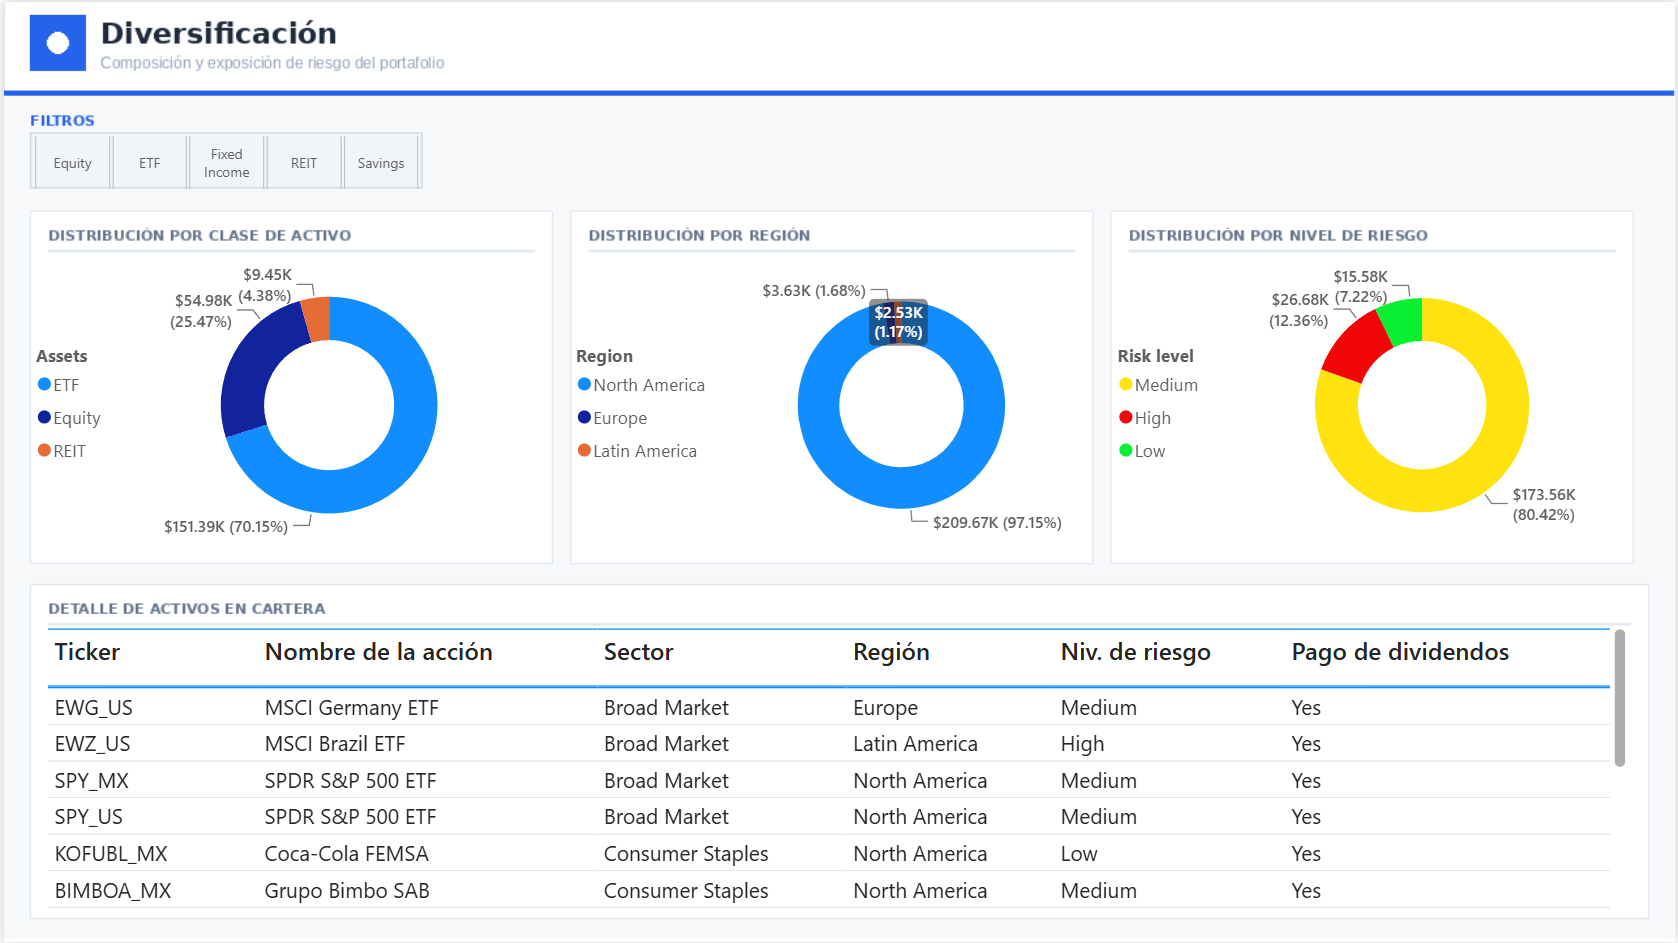

The dashboard page shown, as its layout file describes it:
{"tool":"powerbi","page":{"name":"Diversificación","canvas":[1280,720],"ordinal":3},"visuals":[{"type":"tableEx","title":"Rendimiento por activo","fields":{"Values":["Dim_Assets.Ticker","Dim_Assets.AssetName","Dim_Assets.Sector","Dim_Assets.Region","Dim_Assets.RiskLevel","Dim_Assets.IsDividendPaying"]},"box":[28,474.7,1220,224],"z":0},{"type":"slicer","title":"Clase de activo","fields":{"Values":["Dim_Assets.AssetClass"]},"box":[0,97.5,341.5,50],"z":1000},{"type":"donutChart","title":"Distribución por clase de activo","fields":{"Category":["Dim_Assets.AssetClass"],"Y":["Fact_CurrentPrices.Valor Actual MXN"]},"box":[19.1,191,398.5,235.5],"z":2000},{"type":"donutChart","title":"Distribución por región","fields":{"Category":["Dim_Assets.Region"],"Y":["Fact_CurrentPrices.Valor Actual MXN"]},"box":[432.9,191,399.8,235.5],"z":3000},{"type":"donutChart","title":"Distribución por nivel de riesgo","fields":{"Category":["Dim_Assets.RiskLevel"],"Y":["Fact_CurrentPrices.Valor Actual MXN"]},"box":[848,191,399.8,235.5],"z":4000}]}

Visuals, with their boxes in screenshot pixels (x1, y1, x2, y2), scaled from the page's 1280x720 canvas onto the 1678x943 screenshot:
"Rendimiento por activo" tableEx: box(37, 622, 1636, 915)
"Clase de activo" slicer: box(0, 128, 448, 193)
"Distribución por clase de activo" donutChart: box(25, 250, 547, 559)
"Distribución por región" donutChart: box(568, 250, 1092, 559)
"Distribución por nivel de riesgo" donutChart: box(1112, 250, 1636, 559)
